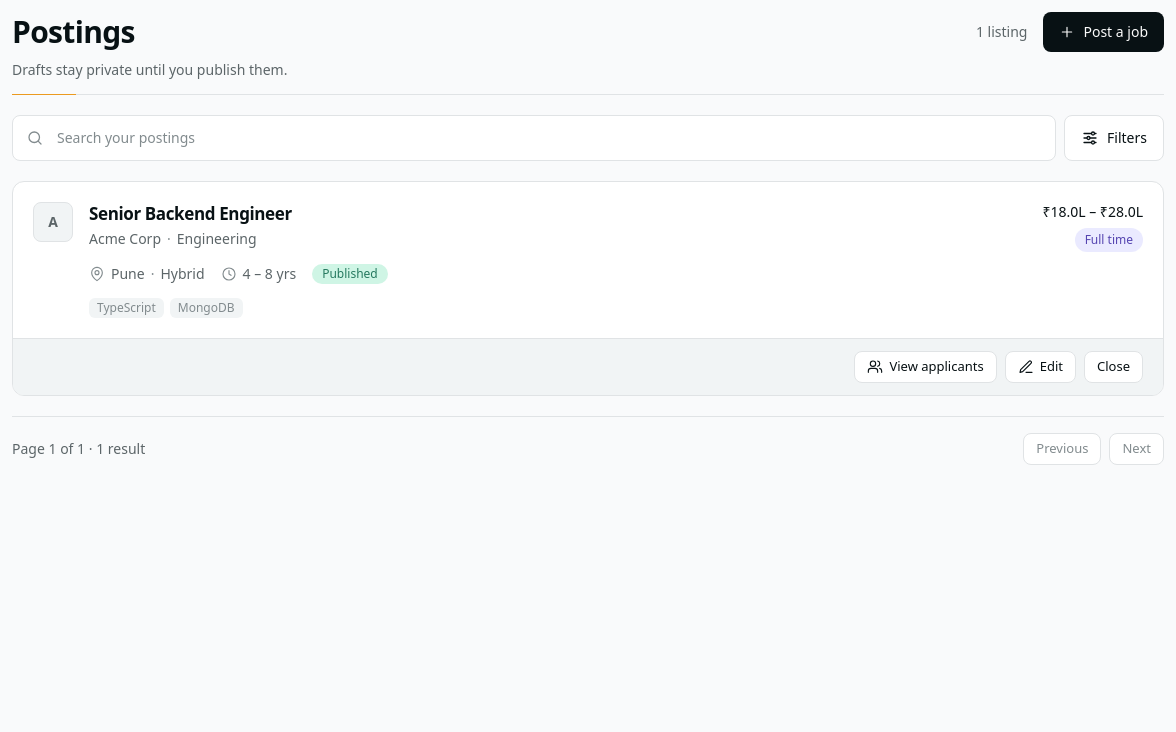
Scenario: HrJobsPage › surfaces a rejected status change
The width and height of the screenshot is (1176, 732).
Expected: the link "Senior Backend Engineer" is shown, [89,202,292,225]
Click the button "Close" at (1114, 367), box [1084,351,1143,383]
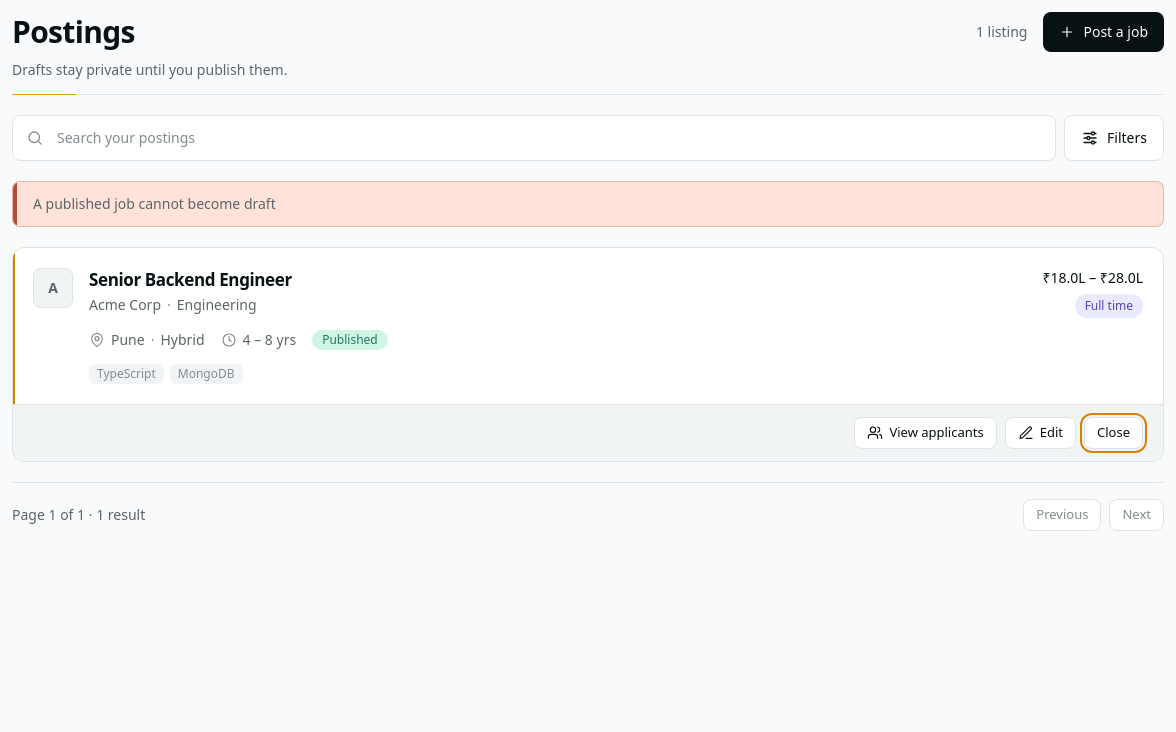
Expected: the message reads "A published job cannot become draft", [33,194,276,213]
